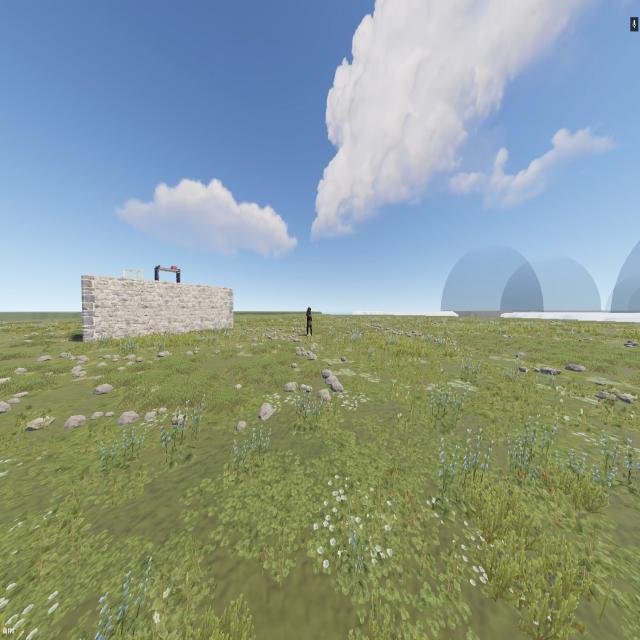Player: (305, 304, 313, 338)
